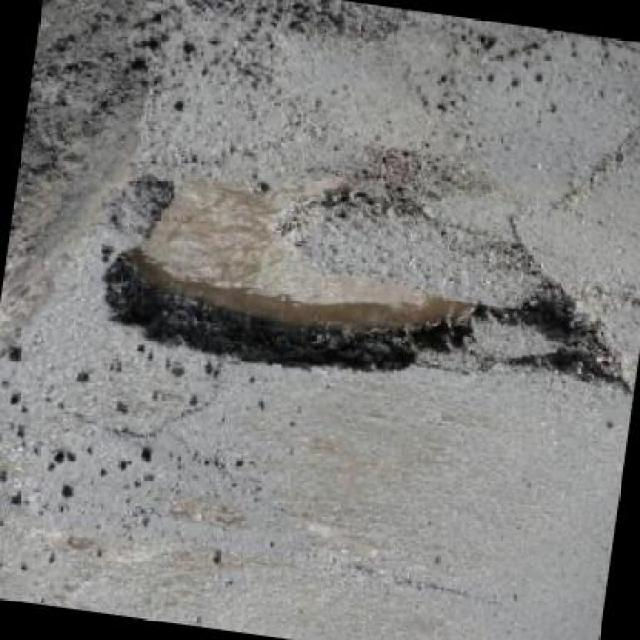pothole1: (86, 143, 505, 400), (491, 268, 638, 394)
